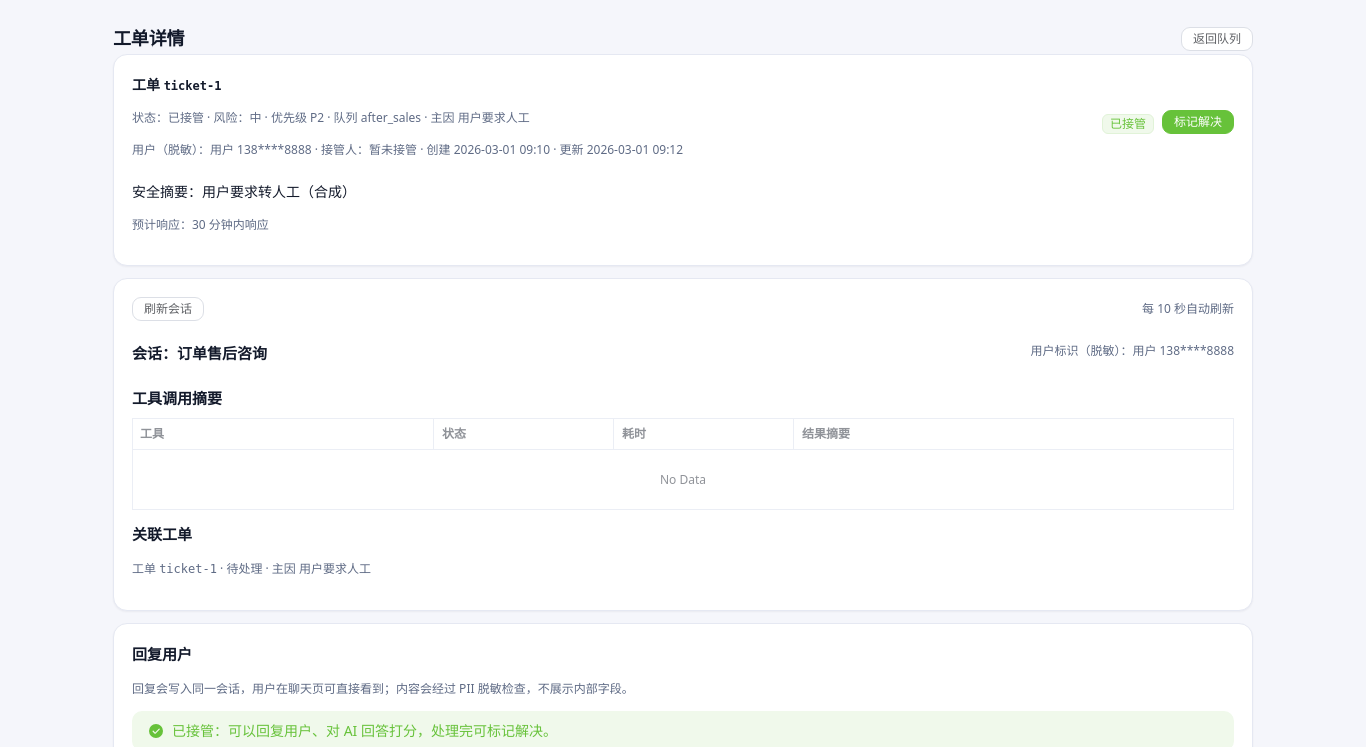
Test: SupportTicketDetailView（接管后状态同步） › 刷新会话能看到用户的新消息
The width and height of the screenshot is (1366, 747).
Click the button "刷新会话" at (168, 309), box [132,297,204,321]
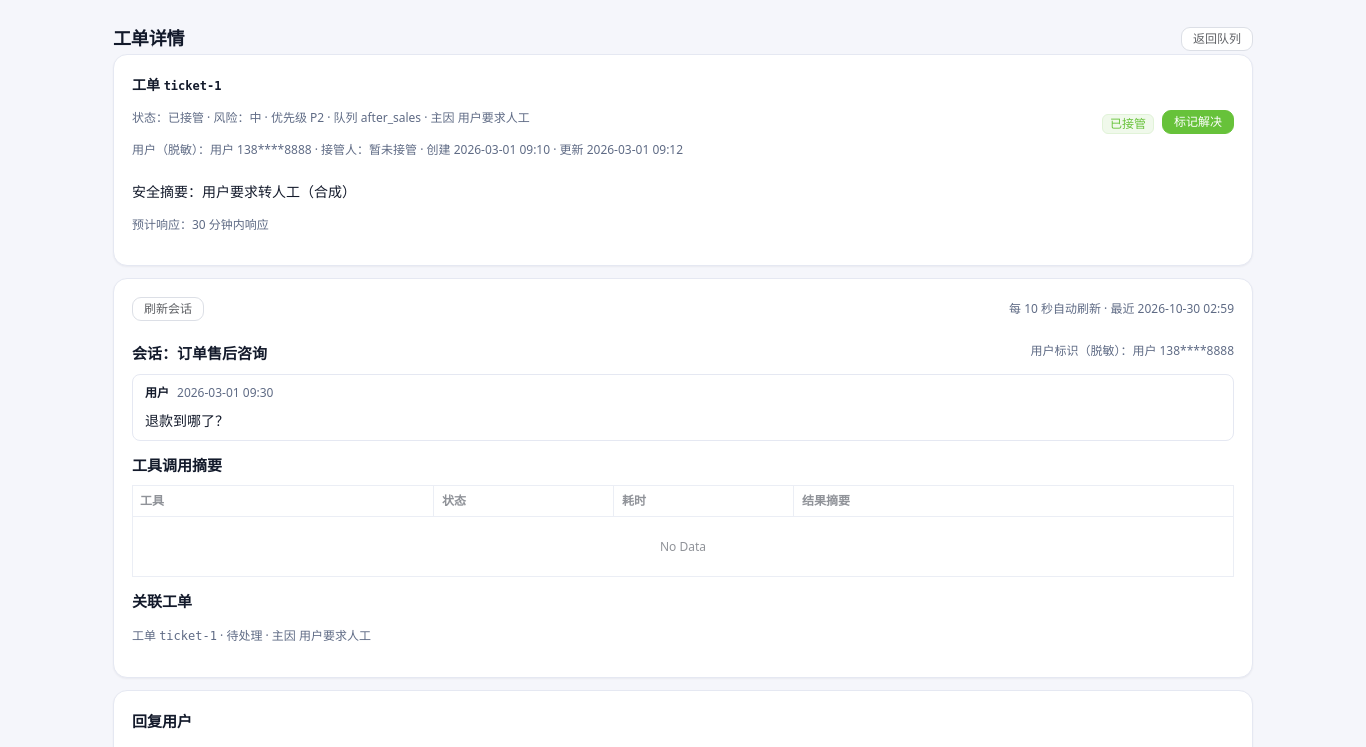
Expected: the text "退款到哪了？" is shown, [145,410,229,430]
